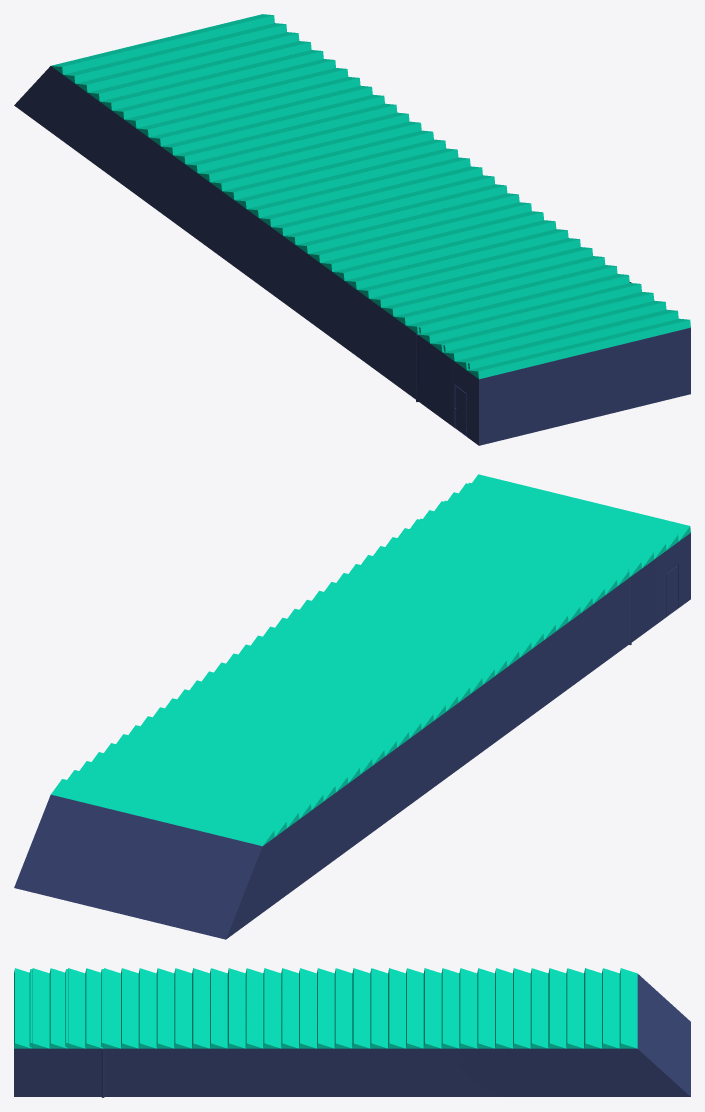
File: Shooting range low.fbx
3 renders of one model, top to bottom at view 1: azimuth 30°, elevation 25°; view 2: azimuth 150°, elevation 25°; view 3: azimuth 270°, elevation 25°, orthographic. The views are drawn at different scales.
Visible parts, largest first — view 1: roof, left_wall, back_wall; view 2: roof, left_wall, front_wall; view 3: roof, right_wall, front_wall.
Part boxes in pixels (x1,y1,x2,y2): roof: (51, 14, 690, 379); left_wall: (14, 66, 478, 445); back_wall: (479, 327, 690, 445); roof: (51, 474, 690, 846); left_wall: (226, 533, 690, 939); front_wall: (14, 794, 262, 939); roof: (14, 968, 637, 1048); right_wall: (14, 1048, 690, 1097); front_wall: (637, 974, 690, 1096).
Size of the model in its own units: 1014 by 335 by 3800.
